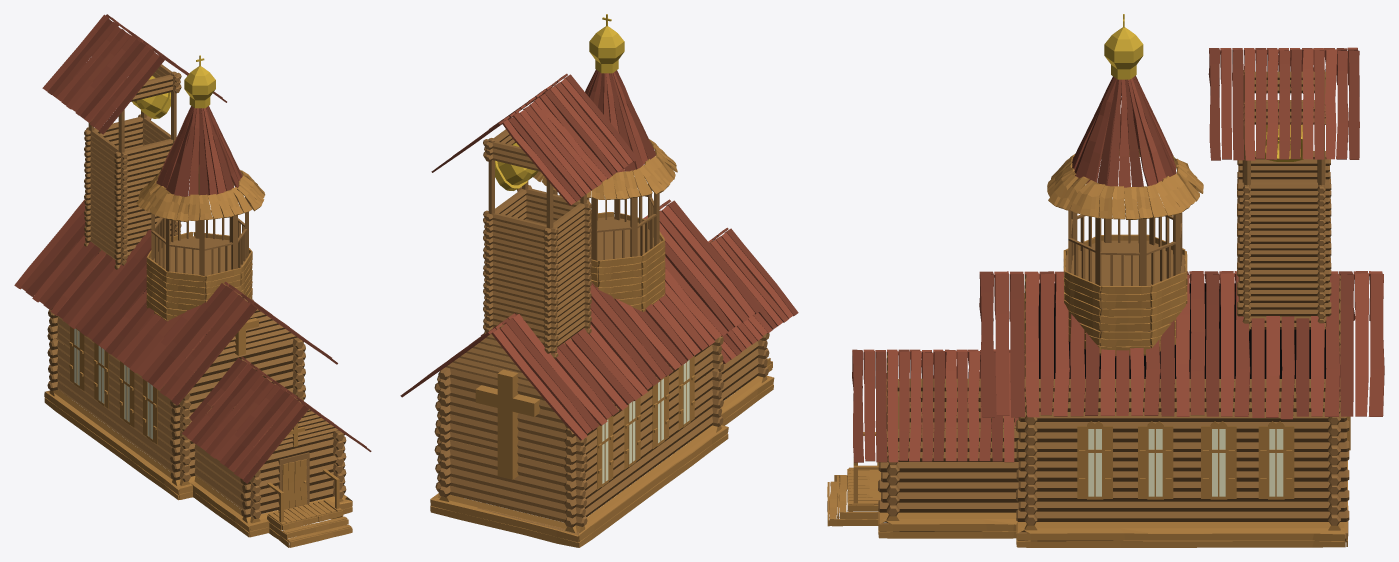
File: Kirche 1.fbx
The picture shows the model from 3 angles, left to right: view 1: azimuth 30°, elevation 25°; view 2: azimuth 150°, elevation 25°; view 3: azimuth 270°, elevation 25°; orthographic projection. The views are drawn at different scales.
Visible parts, largest first — view 1: Kirche, Glockenrumpf; view 2: Kirche, Glockenrumpf; view 3: Kirche.
Boxes of the visible parts, x1,y1,x2,y2 form: Kirche: (14,14,371,547); Glockenrumpf: (132,76,170,118); Kirche: (400,14,798,547); Glockenrumpf: (495,143,537,190); Kirche: (827,14,1384,547).
Bounding box in the file's own units: 7.53 × 17.57 × 17.99.
